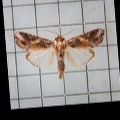Spodoptera litura: (15, 27, 107, 79)
